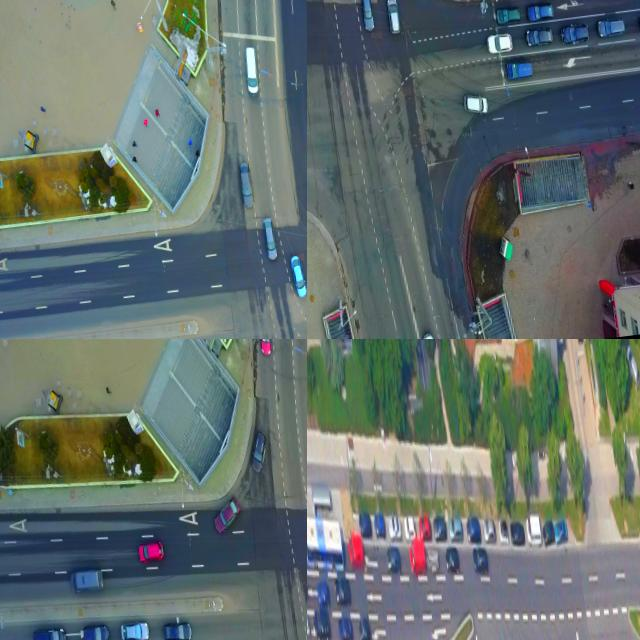UAI: (210, 495, 243, 534), (246, 429, 272, 475), (236, 158, 256, 212), (68, 565, 105, 594), (289, 251, 307, 299), (623, 341, 640, 391), (261, 216, 279, 261), (559, 20, 590, 45), (136, 538, 165, 564), (596, 15, 627, 39), (462, 91, 490, 117), (118, 618, 150, 640), (524, 25, 554, 48), (408, 540, 427, 576), (486, 31, 514, 55), (526, 1, 555, 24), (347, 533, 365, 570), (162, 619, 193, 640), (312, 606, 331, 640), (505, 58, 533, 81), (333, 575, 352, 607), (494, 4, 521, 26), (30, 624, 67, 640), (524, 512, 541, 546), (385, 0, 401, 34), (358, 0, 375, 32), (82, 621, 110, 640), (464, 513, 481, 544), (384, 544, 401, 574), (471, 545, 488, 574), (444, 546, 460, 574), (447, 515, 463, 542), (336, 615, 353, 640), (432, 515, 447, 543), (417, 513, 432, 541), (553, 517, 568, 544), (509, 521, 525, 546), (316, 579, 330, 607), (358, 510, 372, 538), (402, 512, 415, 542), (373, 511, 386, 541), (387, 513, 401, 540), (427, 547, 440, 575), (542, 518, 555, 546), (482, 517, 496, 542), (255, 339, 274, 357), (357, 616, 371, 640), (497, 518, 508, 543)
car: (307, 509, 344, 574)
harvester: (242, 45, 262, 97)
